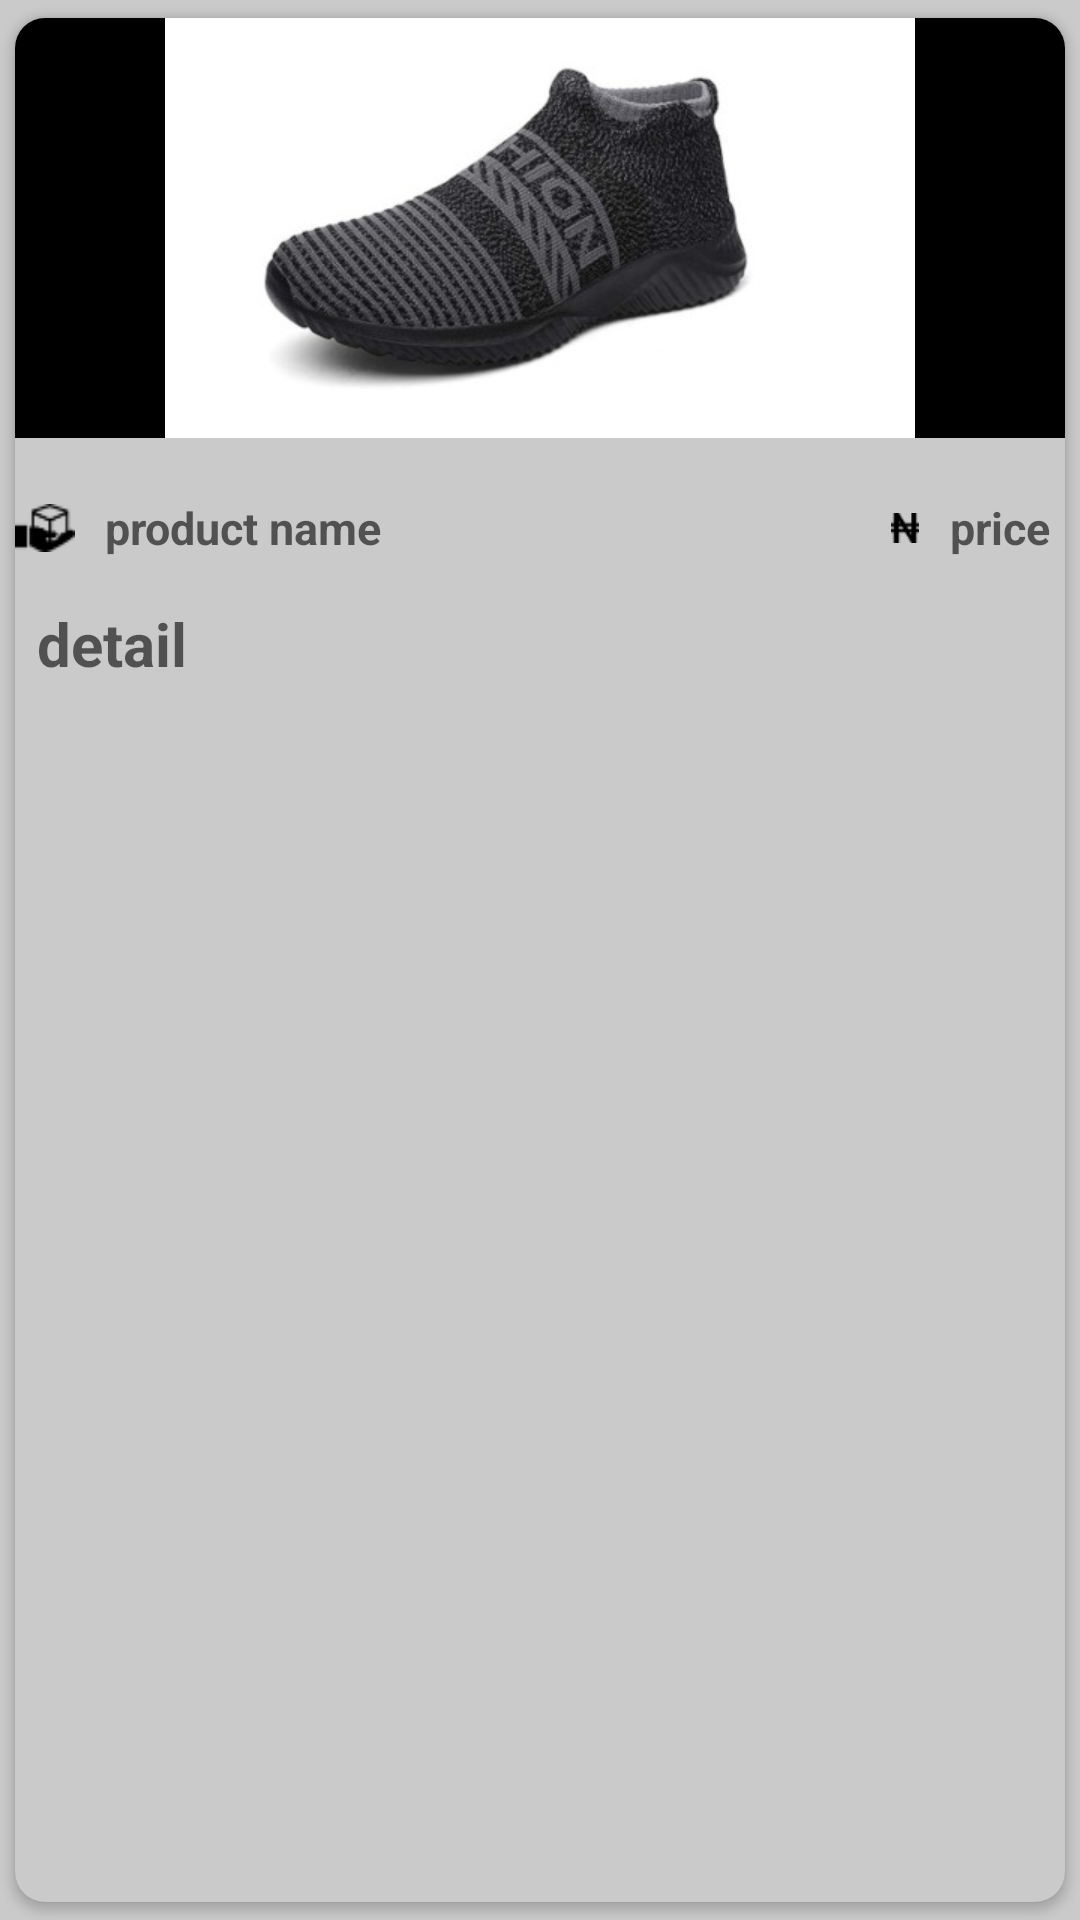

Locate icon controls on the screen. Image size 1080px x 1920px, boxes as (x1, y1, x2, y2).
nairaicon: (891, 513, 919, 543)
producticon: (15, 504, 75, 552)
